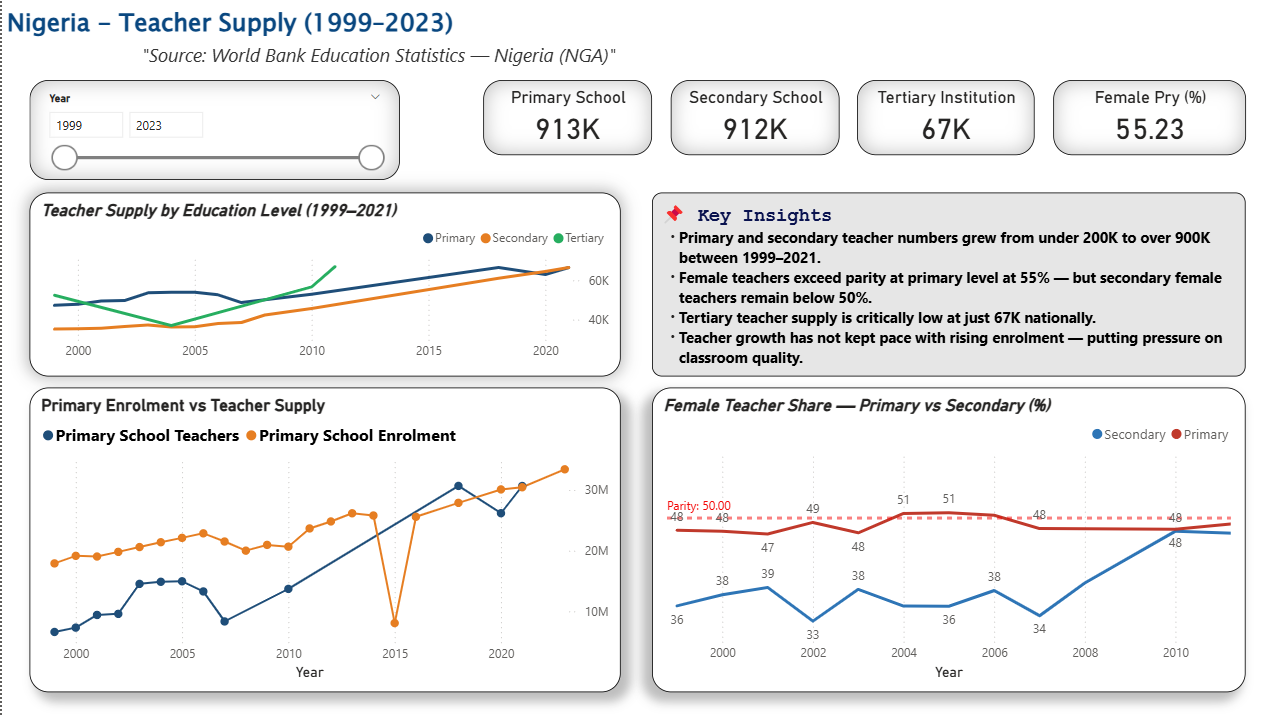

The dashboard page shown, as its layout file describes it:
{"tool":"powerbi","page":{"name":"Teacher Supply","canvas":[1280,720],"ordinal":3},"visuals":[{"type":"textbox","box":[0,0,618.8,79.5],"z":0},{"type":"card","title":"Primary School","fields":{"Values":["PowerBI_Data.Latest Primary Teachers"]},"box":[481.2,80,168.8,75],"z":1000},{"type":"card","title":"Secondary School","fields":{"Values":["PowerBI_Data.Latest Secondary Teachers"]},"box":[668.3,80,168.8,75],"z":2000},{"type":"card","title":"Female Pry (%)","fields":{"Values":["PowerBI_Data.Latest Female Pry Teachers (%)"]},"box":[1051.2,80,192.5,75],"z":3000},{"type":"card","title":"Tertiary Institution","fields":{"Values":["PowerBI_Data.Latest Tertiary Teachers"]},"box":[855.4,80,177.5,75],"z":4000},{"type":"lineChart","title":"Teacher Supply by Education Level (1999–2021)","fields":{"Category":["PowerBI_Data.Year"],"Y":["Sum(PowerBI_Data.Primary School Teachers)","Sum(PowerBI_Data.Secondary School Teachers)"],"Y2":["Sum(PowerBI_Data.Tertiary Teachers)"]},"box":[27.5,192.5,591.2,183.8],"z":5000},{"type":"lineChart","title":"Female Teacher Share — Primary vs Secondary (%)","fields":{"Category":["PowerBI_Data.Year"],"Y":["Sum(PowerBI_Data.% Secondary School Teachers (Female))","Sum(PowerBI_Data.Female Pry Teachers (%))"]},"box":[650,387.5,593.8,305],"z":6000},{"type":"lineChart","title":"Primary Enrolment vs Teacher Supply","fields":{"Category":["PowerBI_Data.Year"],"Y":["Sum(PowerBI_Data.Primary School Teachers)"],"Y2":["Sum(PowerBI_Data.Primary Enrolment)"]},"box":[27.5,387.5,591.2,305],"z":7000},{"type":"slicer","fields":{"Values":["PowerBI_Data.Year"]},"box":[27.5,80,370,100],"z":8000},{"type":"textbox","box":[650,192.5,593.8,183.8],"z":9000}]}

Visuals, with their boxes in screenshot pixels (x1, y1, x2, y2), scaled from the page's 1280x720 canvas onto the 1277x717 screenshot:
textbox: [0,0,617,79]
"Primary School" card: [480,80,648,154]
"Secondary School" card: [667,80,835,154]
"Female Pry (%)" card: [1049,80,1241,154]
"Tertiary Institution" card: [853,80,1030,154]
"Teacher Supply by Education Level (1999–2021)" lineChart: [27,192,617,375]
"Female Teacher Share — Primary vs Secondary (%)" lineChart: [648,386,1241,690]
"Primary Enrolment vs Teacher Supply" lineChart: [27,386,617,690]
slicer - PowerBI_Data.Year: [27,80,397,179]
textbox: [648,192,1241,375]
